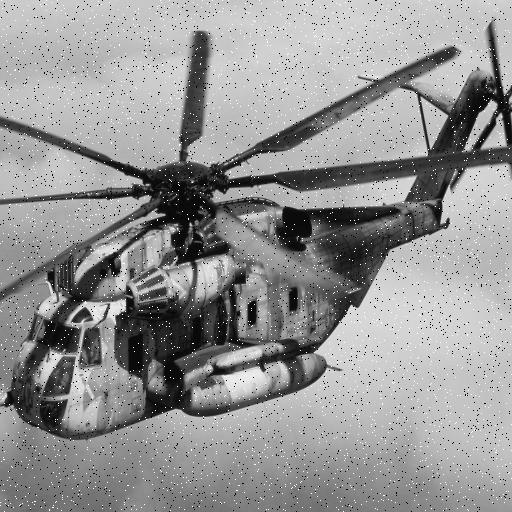helicopter: (1, 27, 512, 437)
